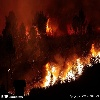fire: (40, 43, 100, 89), (25, 25, 38, 39), (44, 17, 52, 37)
